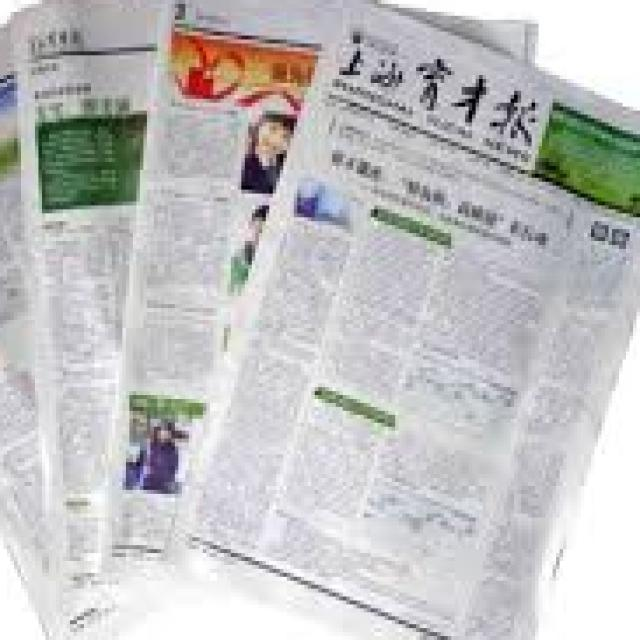organic: (6, 5, 616, 625)
